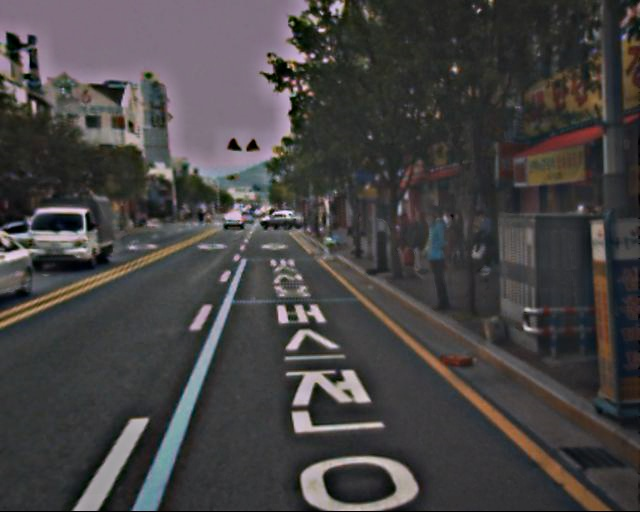person: (416, 206, 461, 316), (469, 208, 496, 275), (400, 210, 427, 276), (445, 212, 466, 264), (395, 216, 411, 251)
